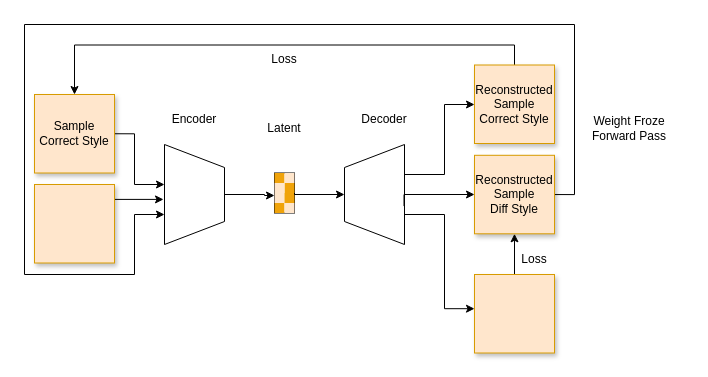
The diagram is 708 pixels wide and 377 high, and some of its shapes have lost their labels. The centre of each missing label's shape, as x and y in pixels:
"Reconstruction of Reconstructed Sample Diff Style" belongs at point (515, 315).
"Sample Diff Style" belongs at point (75, 225).
